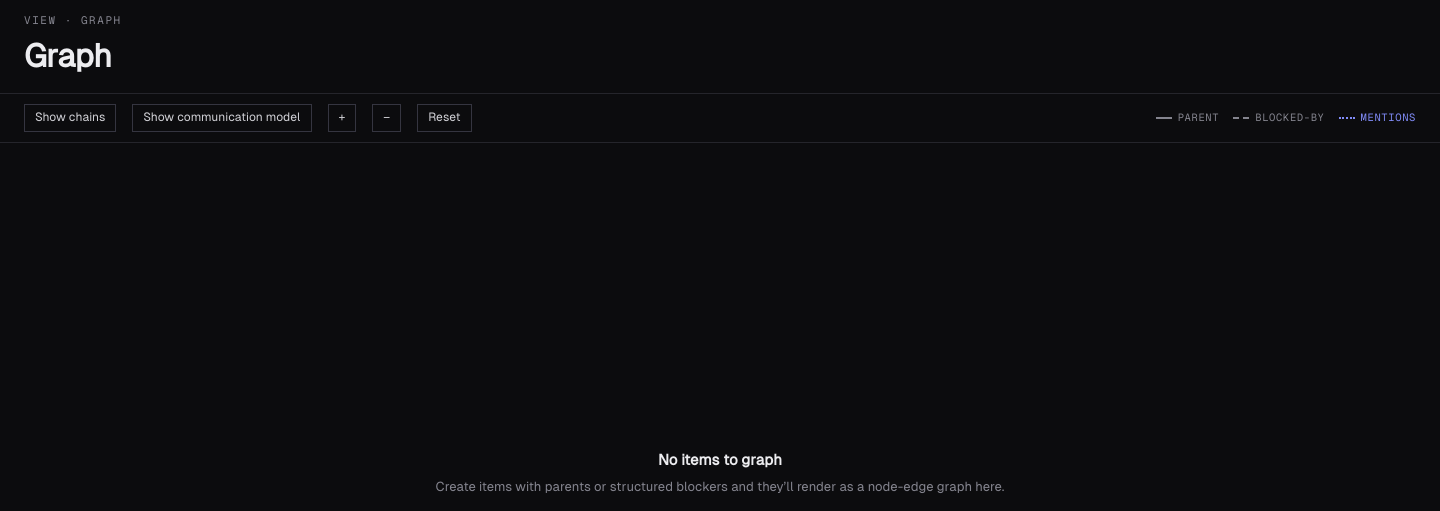
it: GraphView — communication-model fourth layer › swaps the canvas to the communication-model graph when toggled, and shows the module-empty hint when there are no modules
Click the button with test id "graph-toggle-comm" at (222, 118), box [132,104,312,132]
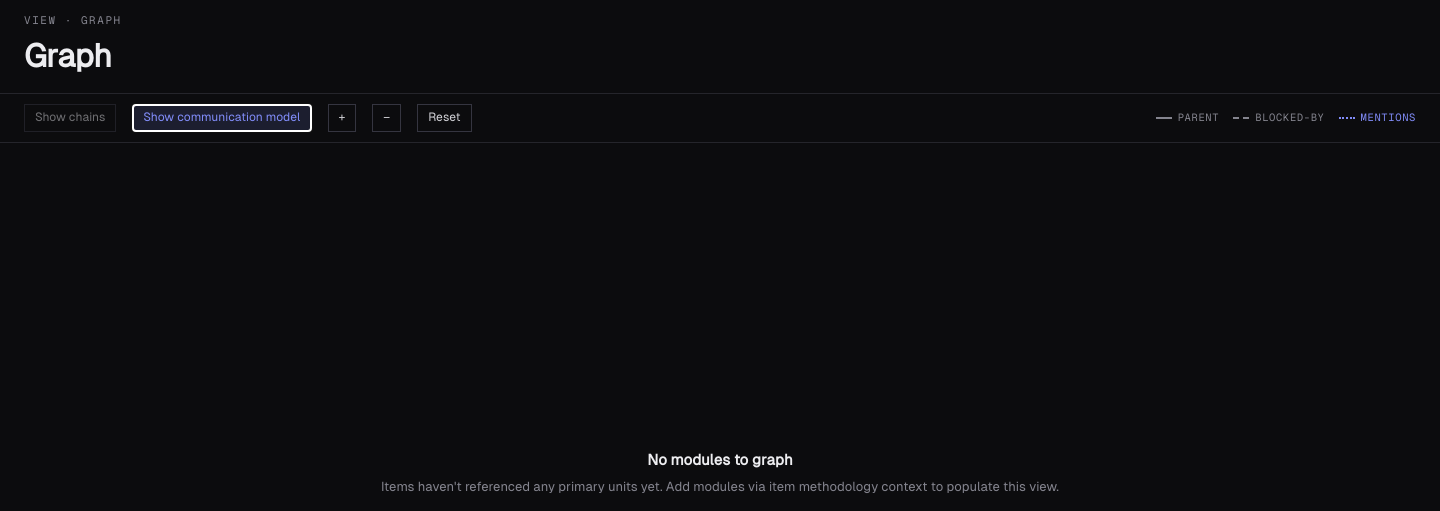
Check: the element with test id "comm-empty" is shown, box [381,451,1059,494]
